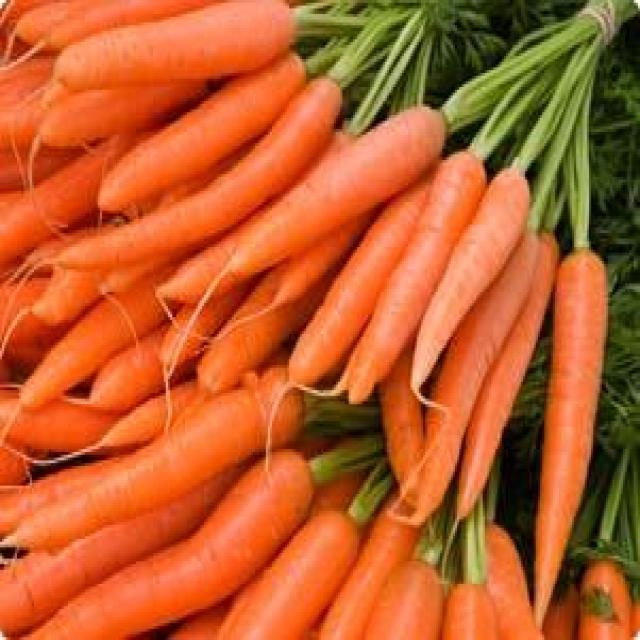Fresh_Carrot: (30, 32, 262, 610), (257, 238, 548, 620), (14, 377, 305, 551), (55, 465, 304, 640), (76, 62, 311, 231), (197, 116, 443, 265), (68, 0, 282, 82)
